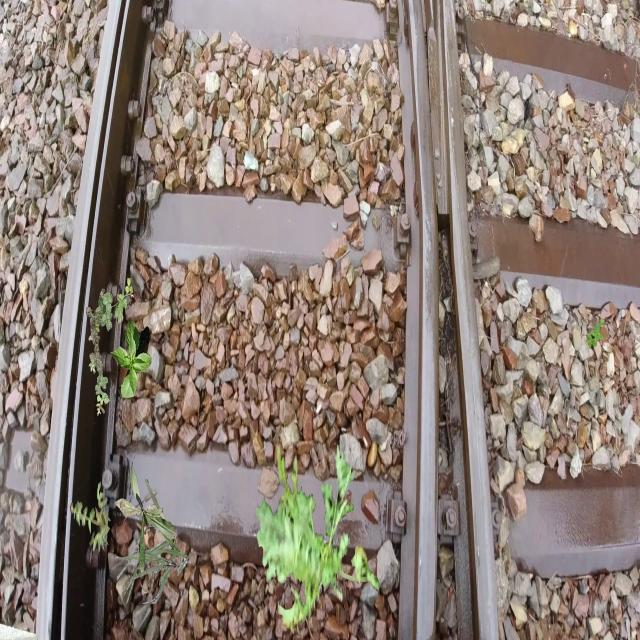Plant: (255, 441, 380, 637), (117, 479, 190, 604), (115, 461, 179, 573), (86, 278, 134, 416), (110, 318, 152, 398), (70, 481, 111, 552), (586, 318, 606, 350)
